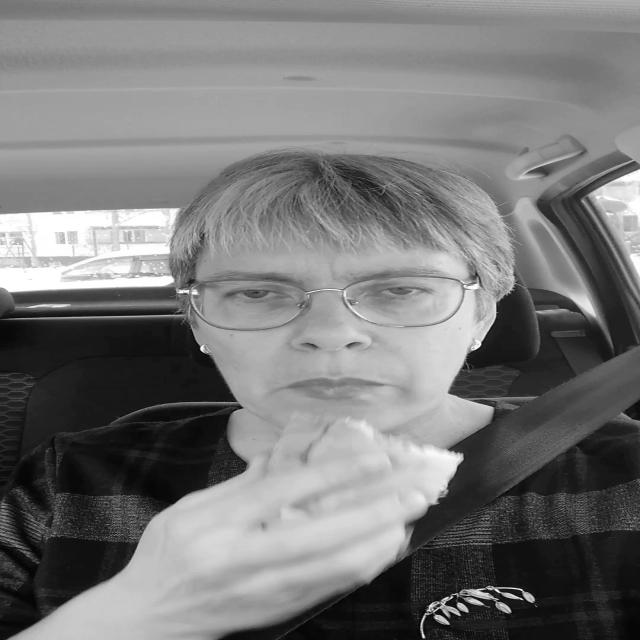Eating: (253, 408, 465, 524)
Seatbelt: (429, 342, 639, 542)
